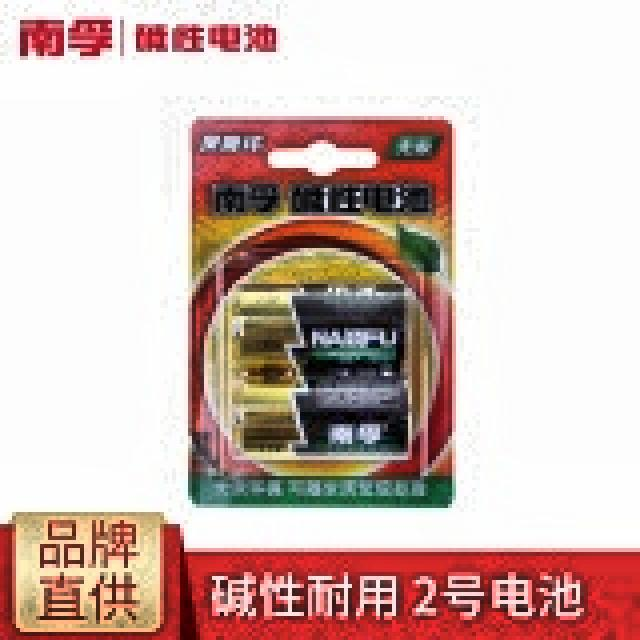Non-Valuable Waste - Batteries: (230, 287, 410, 456)
